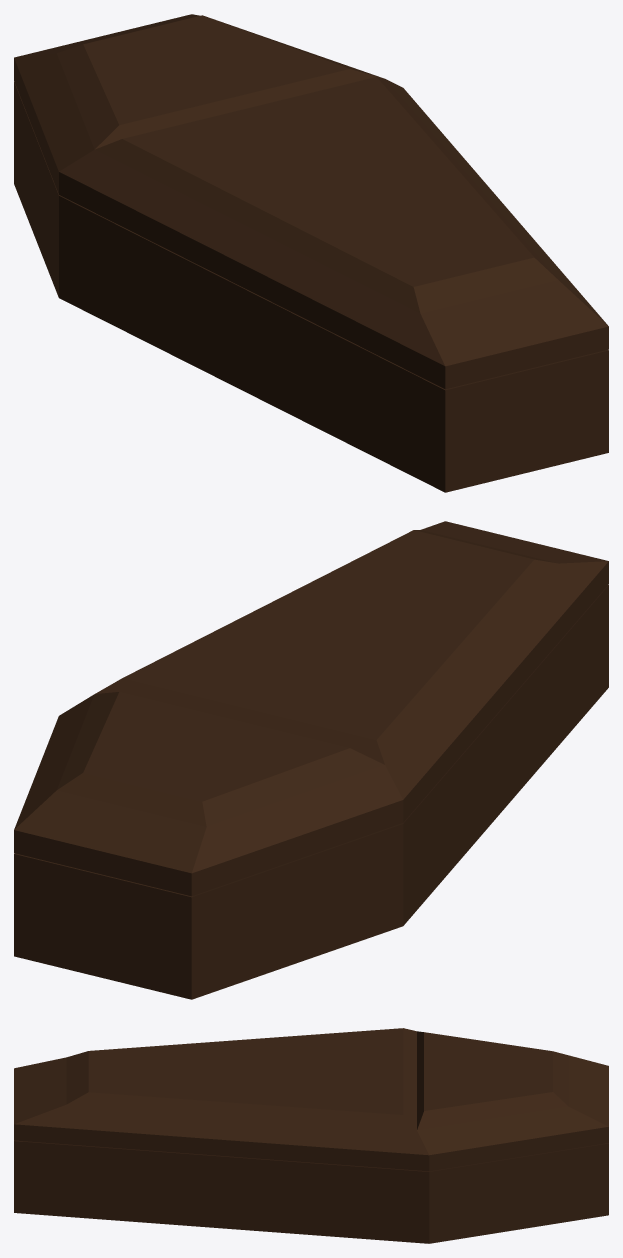
The model's file is Caixao.fbx.
3 renders of one model, top to bottom at view 1: azimuth 30°, elevation 25°; view 2: azimuth 150°, elevation 25°; view 3: azimuth 270°, elevation 25°, orthographic. The views are drawn at different scales.
Visible parts, largest first — view 1: Cube.288, Cube.287; view 2: Cube.288, Cube.287; view 3: Cube.288, Cube.287.
Boxes of the visible parts, x1,y1,x2,y2 form: Cube.288: (14, 14, 608, 389); Cube.287: (14, 81, 608, 492); Cube.288: (14, 521, 608, 896); Cube.287: (14, 585, 608, 999); Cube.288: (14, 1028, 608, 1171); Cube.287: (14, 1140, 608, 1243).
Bounding box in the file's own units: 105 × 46.96 × 223.
